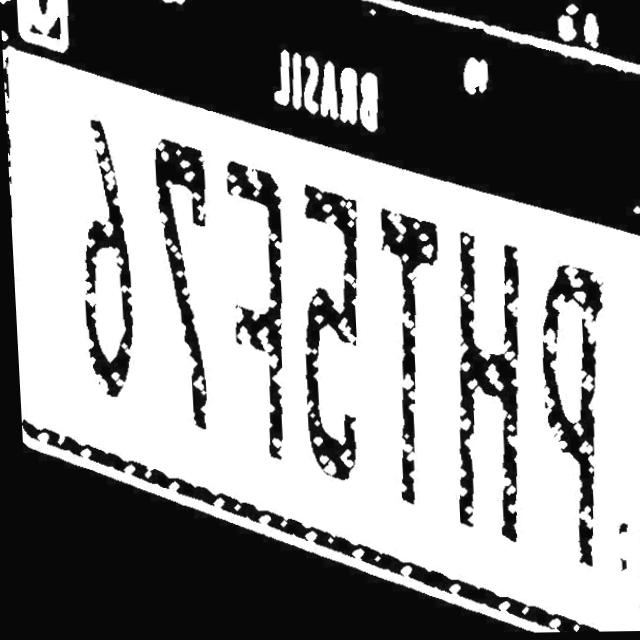5: (290, 182, 373, 490)
6: (60, 100, 151, 406)
7: (144, 121, 222, 437)
f: (223, 152, 293, 472)
h: (438, 227, 534, 550)
p: (524, 256, 621, 577)
t: (368, 205, 451, 508)
